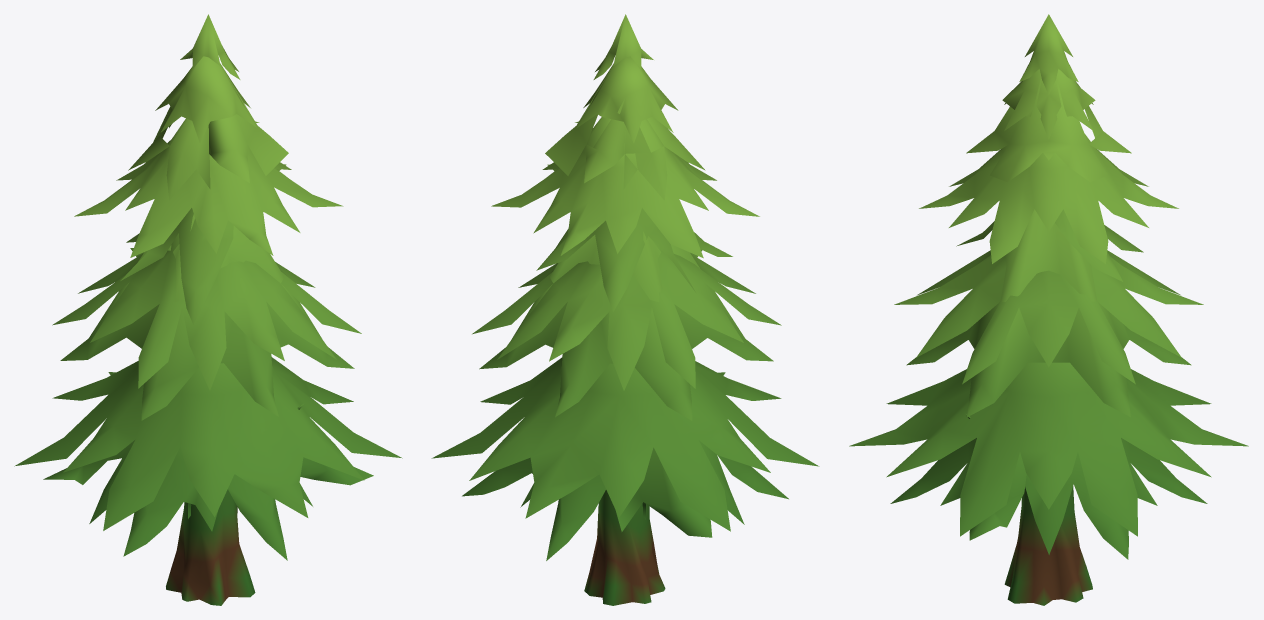
The model's file is tree_b.glb.
3 renders of one model, left to right at view 1: azimuth 30°, elevation 25°; view 2: azimuth 150°, elevation 25°; view 3: azimuth 270°, elevation 25°, orthographic.
Parts seen in each view (by area): view 1: tree_pine; view 2: tree_pine; view 3: tree_pine.
Part boxes in pixels (x1=…): tree_pine: x1=14, y1=14, x2=402, y2=605; tree_pine: x1=431, y1=14, x2=819, y2=605; tree_pine: x1=849, y1=14, x2=1248, y2=605.
Bounding box in the file's own units: 1.86 × 3.4 × 2.15.
